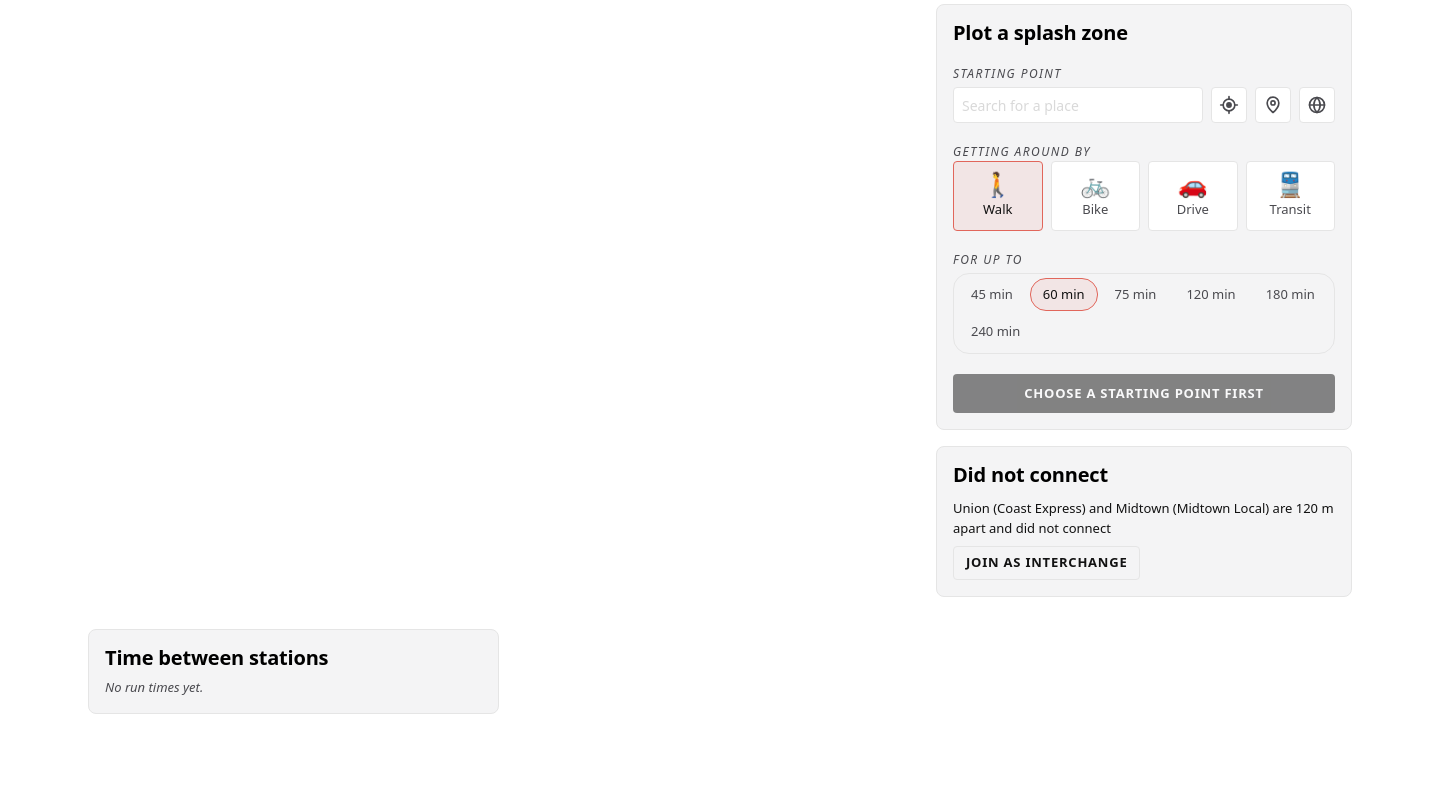
Test case: AuthoredScenarioView joining near misses into interchanges › joins a near miss with one click: saves the pair, recompiles, and lists it as realised
This screenshot has width=1440, height=810.
(page scrolled)
Expected: the number of list items with test id "near-miss-row" is 1, [953, 499, 1335, 580]
Click the button with test id "join-interchange".
click(1047, 563)  # box [953, 546, 1140, 580]
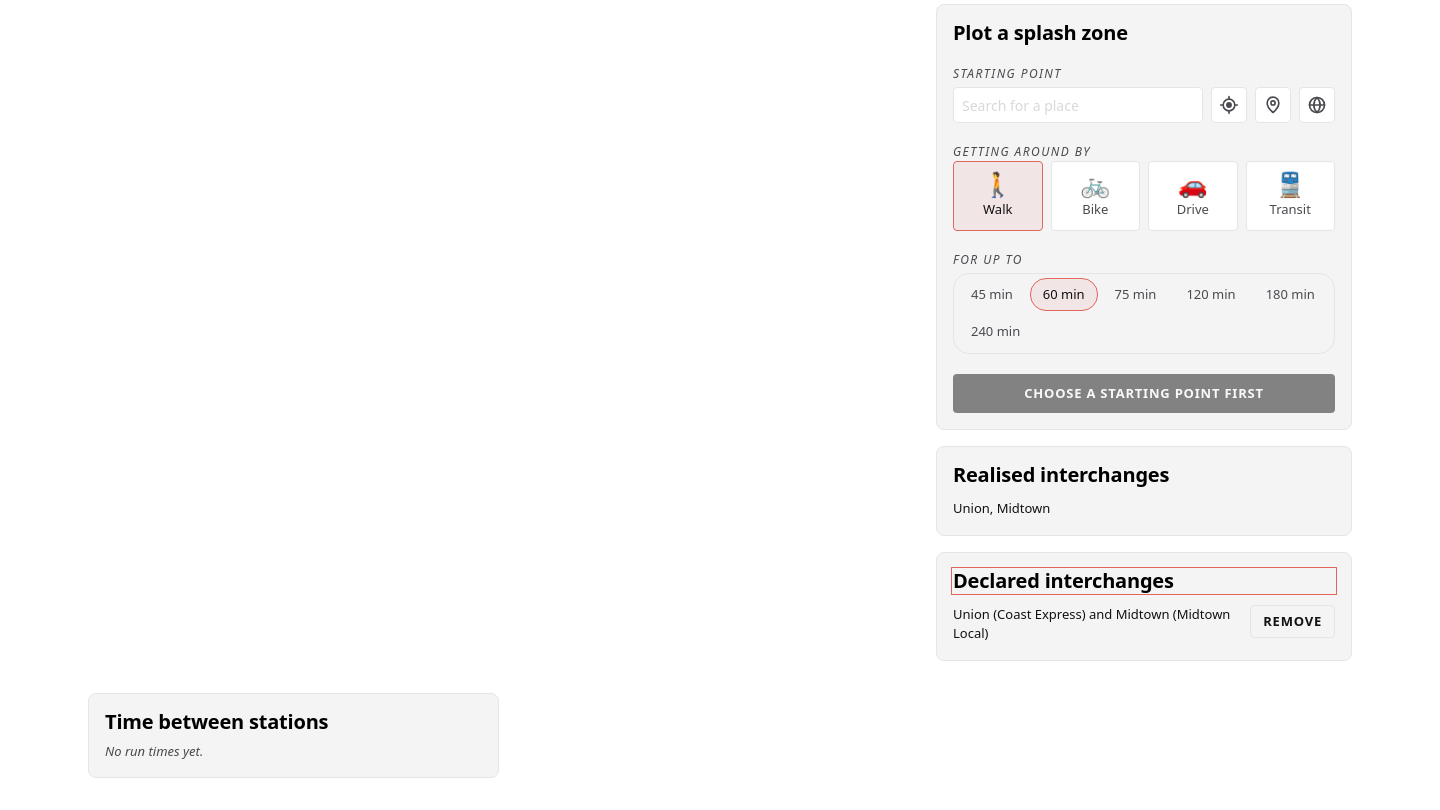
Now the list item with test id "realised-cluster-row" reads "Union, Midtown", box [953, 499, 1050, 517]
Now the list item with test id "declared-interchange-row" shows "Union (Coast Express) and Midtown (Midtown Local)", box [953, 605, 1230, 642]
